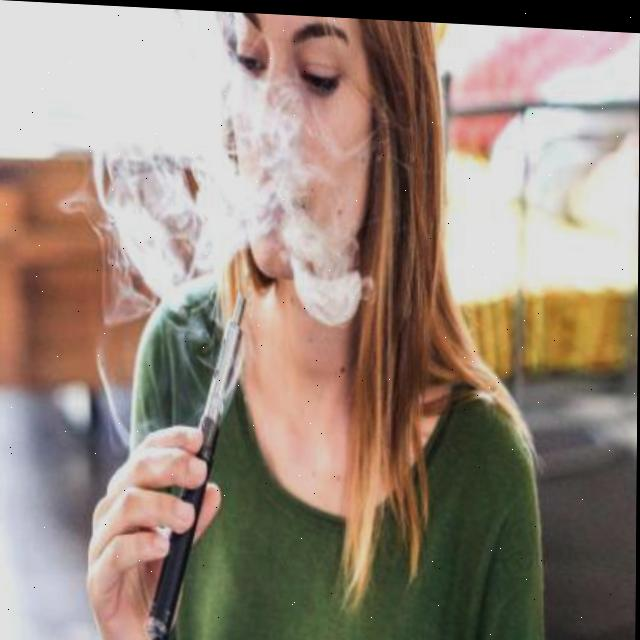vape: (143, 284, 248, 640)
